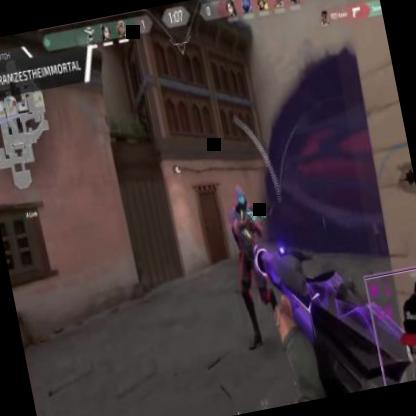enemy: (219, 182, 294, 354)
enemy_head: (230, 183, 249, 212)
